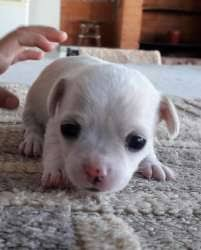chihuahua: (4, 41, 183, 209)
